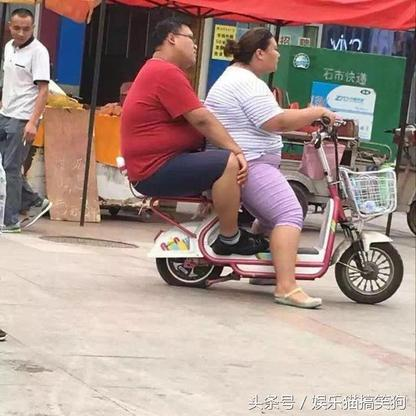target: (121, 25, 403, 309)
